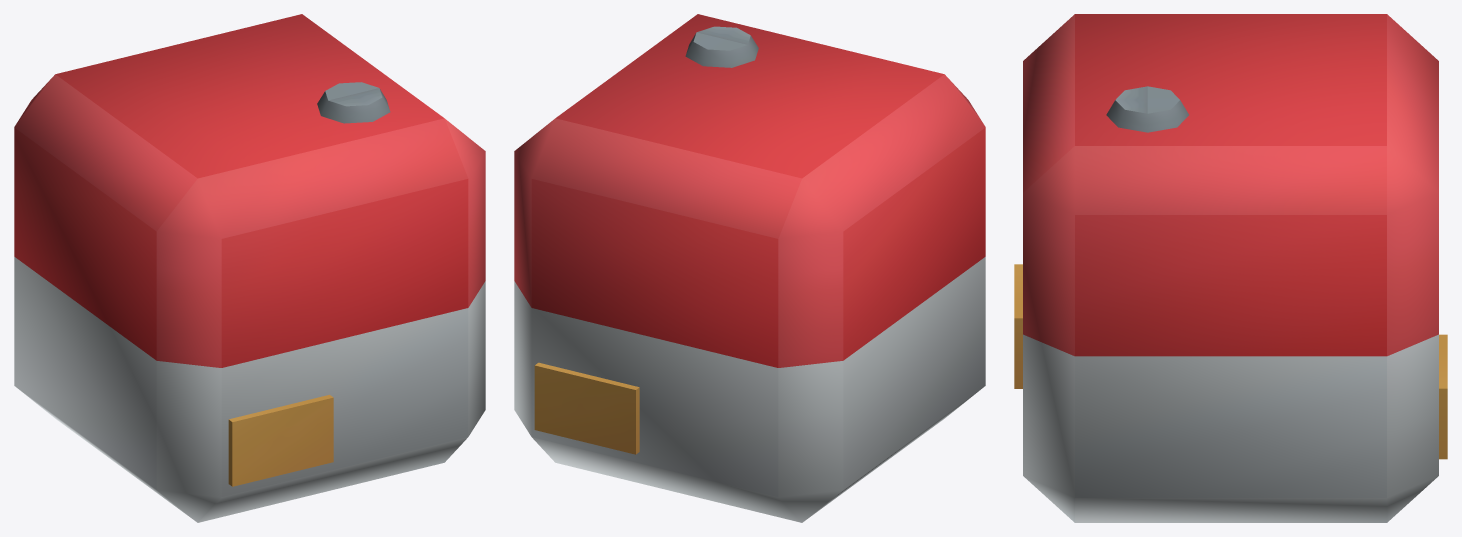
Rendered from cargo_A.glb.
The picture shows the model from 3 angles, left to right: view 1: azimuth 30°, elevation 25°; view 2: azimuth 150°, elevation 25°; view 3: azimuth 270°, elevation 25°; orthographic projection. The views are drawn at different scales.
Parts seen in each view (by area): view 1: cargo_A; view 2: cargo_A; view 3: cargo_A.
Part boxes in pixels (box(x1,y1,x2,y2)): cargo_A: box(14, 14, 485, 522); cargo_A: box(514, 14, 985, 522); cargo_A: box(1014, 14, 1447, 522).
Bounding box in the file's own units: 0.5 × 0.52 × 0.5205.
Materials: 1 (1 with a texture image).
